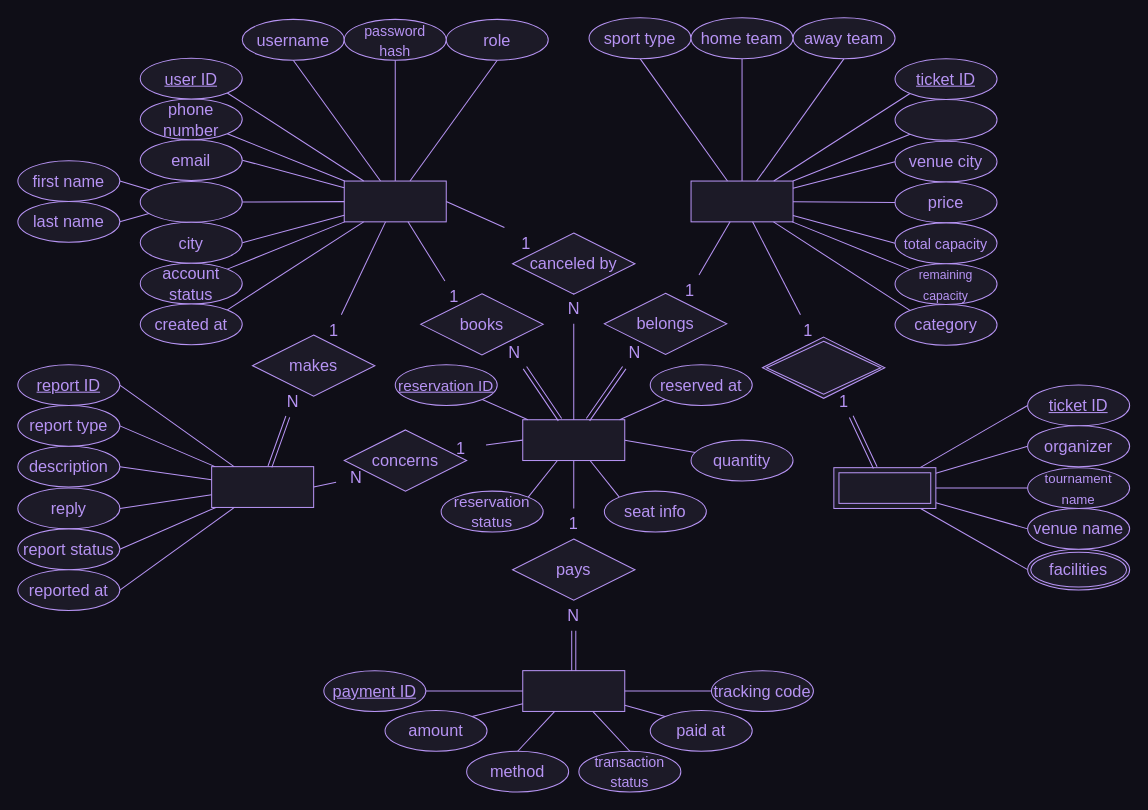
The diagram is 1148 pixels wide and 810 high, and some of its shapes have lost their labels. Here are the shapes that lost their labels. From the top down, the centre of each, then its label:
At [945,119]: "ticket date time".
At [190,201]: "name".
At [394,201]: "User".
At [741,201]: "Ticket".
At [823,367]: "about".
At [573,440]: "Reservation".
At [262,486]: "Report".
At [884,487]: "Match Details".
At [573,690]: "Payment".
